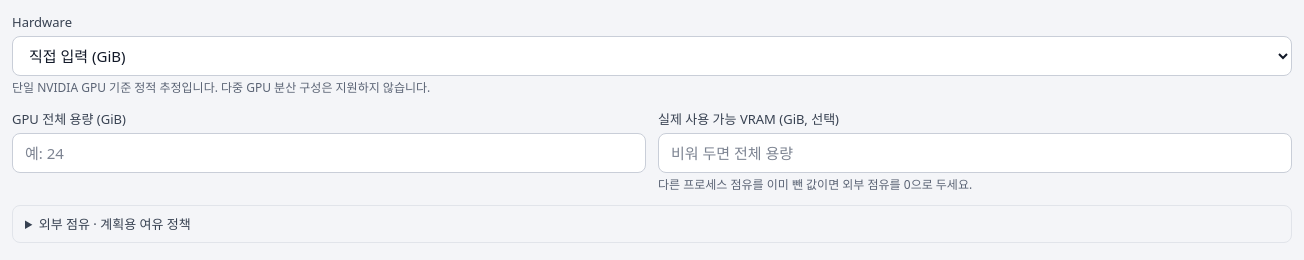
cross-field validation › keeps an error that still applies
The width and height of the screenshot is (1304, 260).
Type "80" into the field labelled "GPU 전체 용량 (GiB)" at (329, 153), box [12,133,646,173]
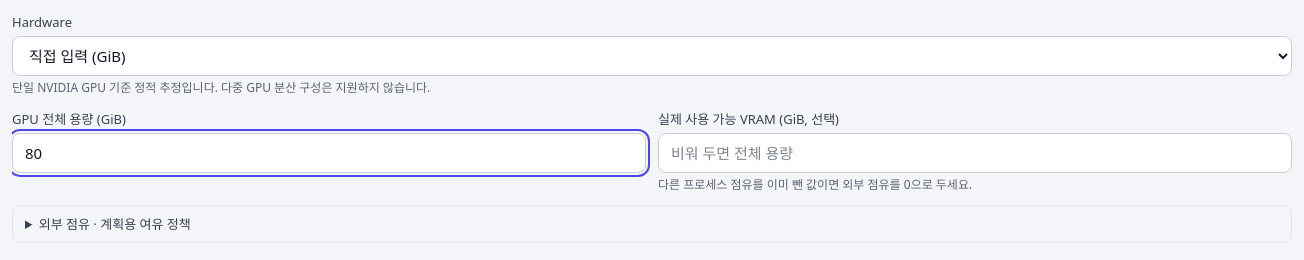
Type "100" into the field labelled "실제 사용 가능 VRAM (GiB, 선택)" at (975, 153), box [658,133,1292,173]
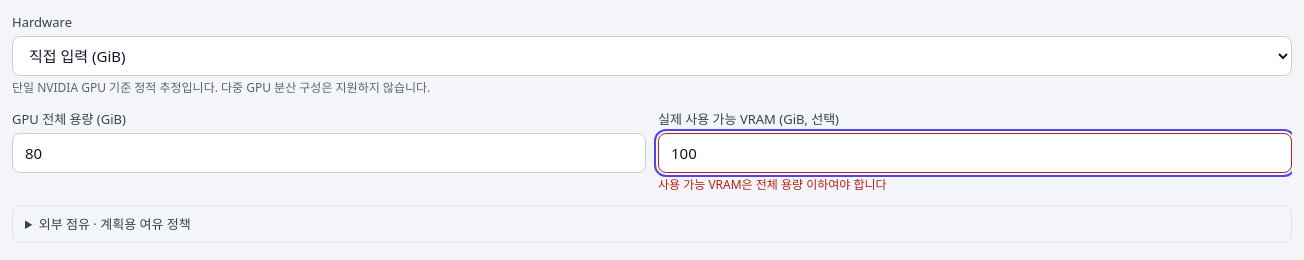
Replace the text in the field labelled "GPU 전체 용량 (GiB)" with "90" at (329, 153), box [12,133,646,173]
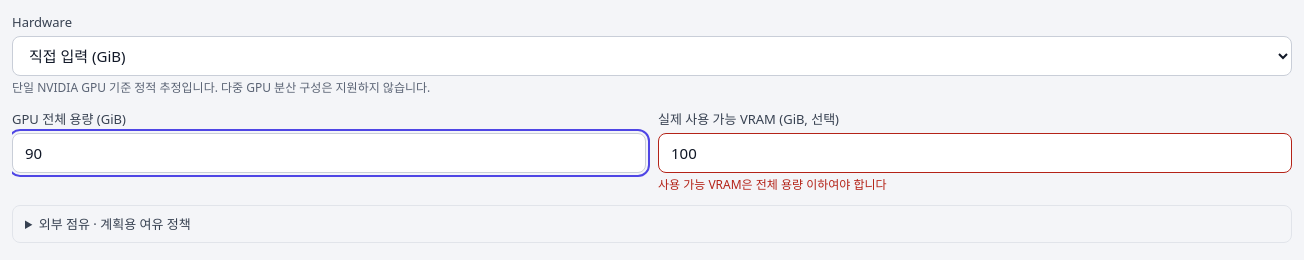
Expected: the text "사용 가능 VRAM은 전체 용량 이하여야 합니다" is shown, [658,176,887,193]
